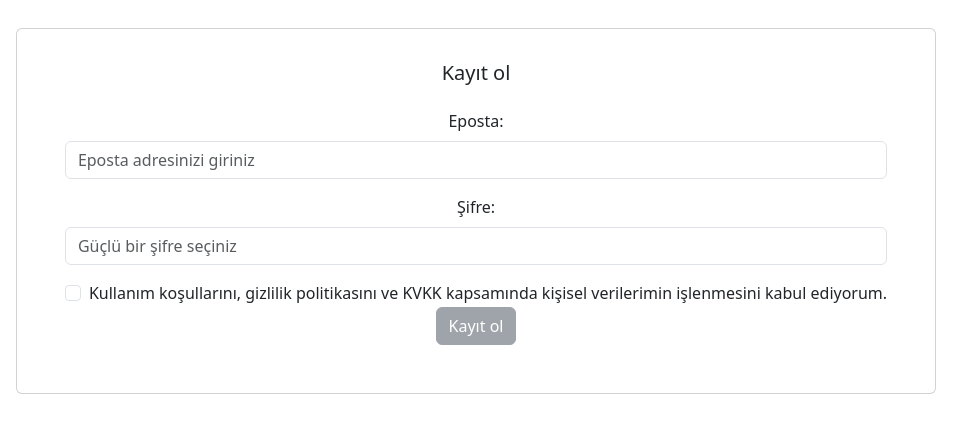
login test run › wrong email
The width and height of the screenshot is (953, 424).
Type "test@test" into the field with test id "email" at (476, 160), box [65,141,887,179]
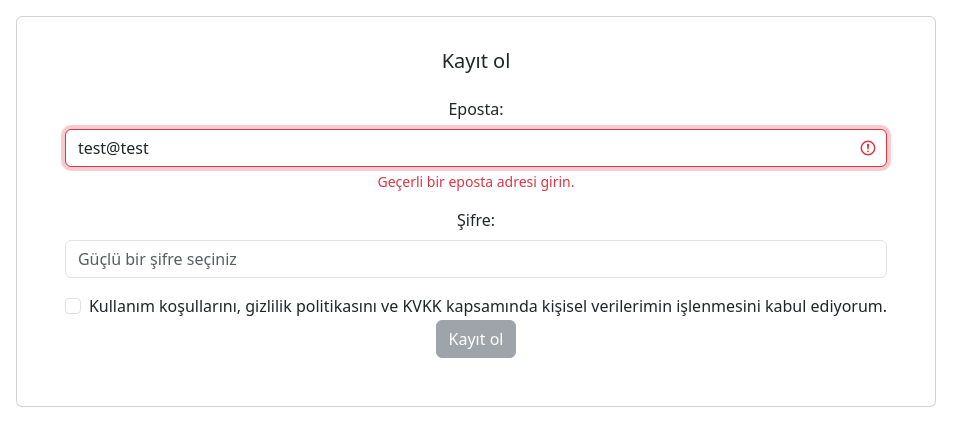
Expected: the button with test id "submitButton" is disabled, [436,320,517,358]
Result: the text "Geçerli bir eposta adresi girin." is shown at [378,172,575,190]
